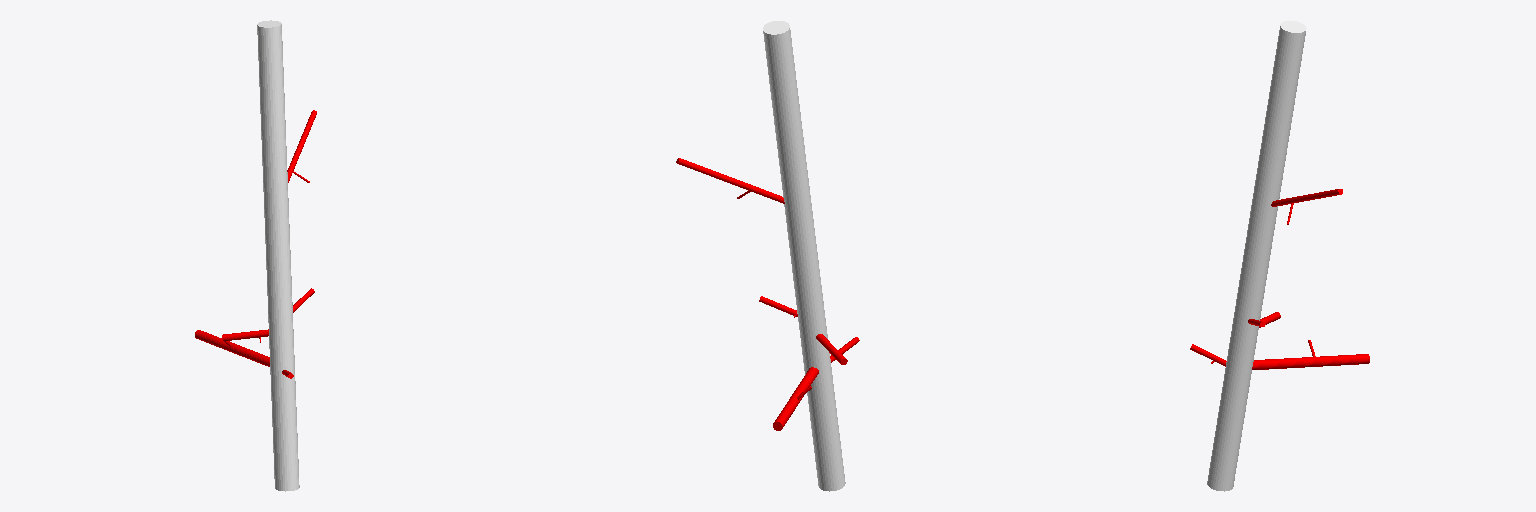
robot.urdf — tree_59.urdf:
<?xml version='1.0' encoding='UTF-8'?>
<robot name="tree_59.urdf">
  <link name="branch_0">
    <inertial>
      <origin xyz="0.0 0.0 0.0" rpy="0.0 -0.0 0.0"/>
      <mass value="0.1"/>
      <inertia ixx="0.001" ixy="0.0" ixz="0.0" iyy="0.001" iyz="0.0" izz="0.001"/>
    </inertial>
    <visual name="branch_0_visual">
      <geometry>
        <cylinder radius="0.17483769597499965" length="6.845135043464648"/>
      </geometry>
      <material name="branch_material"/>
      <origin xyz="0.13283026947058 0.48062829997730977 3.3860479910347157" rpy="-6.938893903907228e-18 0.14621384736707307 1.3011587667619262"/>
    </visual>
    <collision name="branch_0_collision">
      <geometry>
        <cylinder radius="0.17483769597499965" length="6.845135043464648"/>
      </geometry>
      <origin xyz="0.13283026947058 0.48062829997730977 3.3860479910347157" rpy="-6.938893903907228e-18 0.14621384736707307 1.3011587667619262"/>
    </collision>
  </link>
  <link name="branch_1">
    <inertial>
      <origin xyz="0.0 0.0 0.0" rpy="0.0 -0.0 0.0"/>
      <mass value="0.1"/>
      <inertia ixx="0.001" ixy="0.0" ixz="0.0" iyy="0.001" iyz="0.0" izz="0.001"/>
    </inertial>
    <visual name="branch_1_visual">
      <geometry>
        <cylinder radius="0.06699041115230783" length="1.7483322700115995"/>
      </geometry>
      <material name="semantic_material"/>
      <origin xyz="0.0 0.0 0.0" rpy="0.0 -0.0 0.0"/>
    </visual>
    <collision name="branch_1_collision">
      <geometry>
        <cylinder radius="0.06699041115230783" length="1.7483322700115995"/>
      </geometry>
      <origin xyz="0.0 0.0 0.0" rpy="0.0 -0.0 0.0"/>
    </collision>
  </link>
  <link name="branch_2">
    <inertial>
      <origin xyz="0.0 0.0 0.0" rpy="0.0 -0.0 0.0"/>
      <mass value="0.1"/>
      <inertia ixx="0.001" ixy="0.0" ixz="0.0" iyy="0.001" iyz="0.0" izz="0.001"/>
    </inertial>
    <visual name="branch_2_visual">
      <geometry>
        <cylinder radius="0.01938063499564501" length="0.3086776239222891"/>
      </geometry>
      <material name="semantic_material"/>
      <origin xyz="0.0 0.0 0.0" rpy="0.0 -0.0 0.0"/>
    </visual>
    <collision name="branch_2_collision">
      <geometry>
        <cylinder radius="0.01938063499564501" length="0.3086776239222891"/>
      </geometry>
      <origin xyz="0.0 0.0 0.0" rpy="0.0 -0.0 0.0"/>
    </collision>
  </link>
  <link name="branch_3">
    <inertial>
      <origin xyz="0.0 0.0 0.0" rpy="0.0 -0.0 0.0"/>
      <mass value="0.1"/>
      <inertia ixx="0.001" ixy="0.0" ixz="0.0" iyy="0.001" iyz="0.0" izz="0.001"/>
    </inertial>
    <visual name="branch_3_visual">
      <geometry>
        <cylinder radius="0.03895299223296394" length="0.7196661500106503"/>
      </geometry>
      <material name="semantic_material"/>
      <origin xyz="0.0 0.0 0.0" rpy="0.0 -0.0 0.0"/>
    </visual>
    <collision name="branch_3_collision">
      <geometry>
        <cylinder radius="0.03895299223296394" length="0.7196661500106503"/>
      </geometry>
      <origin xyz="0.0 0.0 0.0" rpy="0.0 -0.0 0.0"/>
    </collision>
  </link>
  <link name="branch_4">
    <inertial>
      <origin xyz="0.0 0.0 0.0" rpy="0.0 -0.0 0.0"/>
      <mass value="0.1"/>
      <inertia ixx="0.001" ixy="0.0" ixz="0.0" iyy="0.001" iyz="0.0" izz="0.001"/>
    </inertial>
    <visual name="branch_4_visual">
      <geometry>
        <cylinder radius="0.01" length="0.07999111156025722"/>
      </geometry>
      <material name="semantic_material"/>
      <origin xyz="0.0 0.0 0.0" rpy="0.0 -0.0 0.0"/>
    </visual>
    <collision name="branch_4_collision">
      <geometry>
        <cylinder radius="0.01" length="0.07999111156025722"/>
      </geometry>
      <origin xyz="0.0 0.0 0.0" rpy="0.0 -0.0 0.0"/>
    </collision>
  </link>
  <link name="branch_5">
    <inertial>
      <origin xyz="0.0 0.0 0.0" rpy="0.0 -0.0 0.0"/>
      <mass value="0.1"/>
      <inertia ixx="0.001" ixy="0.0" ixz="0.0" iyy="0.001" iyz="0.0" izz="0.001"/>
    </inertial>
    <visual name="branch_5_visual">
      <geometry>
        <cylinder radius="0.039121098867955756" length="0.6996559909180442"/>
      </geometry>
      <material name="semantic_material"/>
      <origin xyz="0.0 0.0 0.0" rpy="0.0 -0.0 0.0"/>
    </visual>
    <collision name="branch_5_collision">
      <geometry>
        <cylinder radius="0.039121098867955756" length="0.6996559909180442"/>
      </geometry>
      <origin xyz="0.0 0.0 0.0" rpy="0.0 -0.0 0.0"/>
    </collision>
  </link>
  <link name="branch_6">
    <inertial>
      <origin xyz="0.0 0.0 0.0" rpy="0.0 -0.0 0.0"/>
      <mass value="0.1"/>
      <inertia ixx="0.001" ixy="0.0" ixz="0.0" iyy="0.001" iyz="0.0" izz="0.001"/>
    </inertial>
    <visual name="branch_6_visual">
      <geometry>
        <cylinder radius="0.012666042768010533" length="0.09677016302122704"/>
      </geometry>
      <material name="semantic_material"/>
      <origin xyz="0.0 0.0 0.0" rpy="0.0 -0.0 0.0"/>
    </visual>
    <collision name="branch_6_collision">
      <geometry>
        <cylinder radius="0.012666042768010533" length="0.09677016302122704"/>
      </geometry>
      <origin xyz="0.0 0.0 0.0" rpy="0.0 -0.0 0.0"/>
    </collision>
  </link>
  <link name="branch_7">
    <inertial>
      <origin xyz="0.0 0.0 0.0" rpy="0.0 -0.0 0.0"/>
      <mass value="0.1"/>
      <inertia ixx="0.001" ixy="0.0" ixz="0.0" iyy="0.001" iyz="0.0" izz="0.001"/>
    </inertial>
    <visual name="branch_7_visual">
      <geometry>
        <cylinder radius="0.049292176472679576" length="0.8322579076883592"/>
      </geometry>
      <material name="semantic_material"/>
      <origin xyz="0.0 0.0 0.0" rpy="0.0 -0.0 0.0"/>
    </visual>
    <collision name="branch_7_collision">
      <geometry>
        <cylinder radius="0.049292176472679576" length="0.8322579076883592"/>
      </geometry>
      <origin xyz="0.0 0.0 0.0" rpy="0.0 -0.0 0.0"/>
    </collision>
  </link>
  <link name="branch_8">
    <inertial>
      <origin xyz="0.0 0.0 0.0" rpy="0.0 -0.0 0.0"/>
      <mass value="0.1"/>
      <inertia ixx="0.001" ixy="0.0" ixz="0.0" iyy="0.001" iyz="0.0" izz="0.001"/>
    </inertial>
    <visual name="branch_8_visual">
      <geometry>
        <cylinder radius="0.011565450349080658" length="0.1394236431867614"/>
      </geometry>
      <material name="semantic_material"/>
      <origin xyz="0.0 0.0 0.0" rpy="0.0 -0.0 0.0"/>
    </visual>
    <collision name="branch_8_collision">
      <geometry>
        <cylinder radius="0.011565450349080658" length="0.1394236431867614"/>
      </geometry>
      <origin xyz="0.0 0.0 0.0" rpy="0.0 -0.0 0.0"/>
    </collision>
  </link>
  <link name="branch_9">
    <inertial>
      <origin xyz="0.0 0.0 0.0" rpy="0.0 -0.0 0.0"/>
      <mass value="0.1"/>
      <inertia ixx="0.001" ixy="0.0" ixz="0.0" iyy="0.001" iyz="0.0" izz="0.001"/>
    </inertial>
    <visual name="branch_9_visual">
      <geometry>
        <cylinder radius="0.040861218790571245" length="1.7373313124930687"/>
      </geometry>
      <material name="semantic_material"/>
      <origin xyz="0.0 0.0 0.0" rpy="0.0 -0.0 0.0"/>
    </visual>
    <collision name="branch_9_collision">
      <geometry>
        <cylinder radius="0.040861218790571245" length="1.7373313124930687"/>
      </geometry>
      <origin xyz="0.0 0.0 0.0" rpy="0.0 -0.0 0.0"/>
    </collision>
  </link>
  <link name="branch_10">
    <inertial>
      <origin xyz="0.0 0.0 0.0" rpy="0.0 -0.0 0.0"/>
      <mass value="0.1"/>
      <inertia ixx="0.001" ixy="0.0" ixz="0.0" iyy="0.001" iyz="0.0" izz="0.001"/>
    </inertial>
    <visual name="branch_10_visual">
      <geometry>
        <cylinder radius="0.015294915321162731" length="0.352002311266226"/>
      </geometry>
      <material name="semantic_material"/>
      <origin xyz="0.0 0.0 0.0" rpy="0.0 -0.0 0.0"/>
    </visual>
    <collision name="branch_10_collision">
      <geometry>
        <cylinder radius="0.015294915321162731" length="0.352002311266226"/>
      </geometry>
      <origin xyz="0.0 0.0 0.0" rpy="0.0 -0.0 0.0"/>
    </collision>
  </link>
  <joint name="joint_0_1" type="fixed">
    <parent link="branch_0"/>
    <child link="branch_1"/>
    <axis xyz="1. 0. 0."/>
    <origin xyz="-0.12822355548615294 1.1005729452434996 1.720436290816358" rpy="2.153925401109629 1.4872036745767587 -2.3321736571797413"/>
  </joint>
  <joint name="joint_0_3" type="fixed">
    <parent link="branch_0"/>
    <child link="branch_3"/>
    <axis xyz="1. 0. 0."/>
    <origin xyz="0.4174300751111684 0.452354742098684 2.5550254973716" rpy="-0.35781529107531457 1.2060541356721188 -0.06051568609880346"/>
  </joint>
  <joint name="joint_0_5" type="fixed">
    <parent link="branch_0"/>
    <child link="branch_5"/>
    <axis xyz="1. 0. 0."/>
    <origin xyz="-0.04554988467439796 -0.06875812216427653 1.8187571663923818" rpy="0.032885988813767864 1.2344144009468903 -1.8831571797677993"/>
  </joint>
  <joint name="joint_0_7" type="fixed">
    <parent link="branch_0"/>
    <child link="branch_7"/>
    <axis xyz="1. 0. 0."/>
    <origin xyz="-0.2629009176737517 0.5383769138522845 2.2282477556702247" rpy="2.327488728570028 1.377732060592368 -1.369769132083162"/>
  </joint>
  <joint name="joint_0_9" type="fixed">
    <parent link="branch_0"/>
    <child link="branch_9"/>
    <axis xyz="1. 0. 0."/>
    <origin xyz="0.7618292751901468 1.0856216588098457 4.511264598343443" rpy="-0.199648748766704 1.1064267949914965 0.47173828623872993"/>
  </joint>
  <joint name="joint_1_2" type="fixed">
    <parent link="branch_0"/>
    <child link="branch_2"/>
    <axis xyz="1. 0. 0."/>
    <origin xyz="-0.26558153879506347 1.2132249119522351 1.821450789851478" rpy="0.7907531816728135 0.061366962770074175 -1.2346300176135498"/>
  </joint>
  <joint name="joint_3_4" type="fixed">
    <parent link="branch_0"/>
    <child link="branch_4"/>
    <axis xyz="1. 0. 0."/>
    <origin xyz="0.2866995694698252 0.449717250481116 2.4998898935605225" rpy="1.8402076955796998 0.33246502778485554 -2.7892638359901847"/>
  </joint>
  <joint name="joint_5_6" type="fixed">
    <parent link="branch_0"/>
    <child link="branch_6"/>
    <axis xyz="1. 0. 0."/>
    <origin xyz="-0.02218293154018321 -0.08221102723134788 1.7852758662018027" rpy="2.2627600301473496 0.6977193055976095 0.8223425192384872"/>
  </joint>
  <joint name="joint_7_8" type="fixed">
    <parent link="branch_0"/>
    <child link="branch_8"/>
    <axis xyz="1. 0. 0."/>
    <origin xyz="-0.1904670763363556 0.4309305295110088 2.199636739131527" rpy="2.2524265310010207 -0.12593228672055654 -0.5539880833438916"/>
  </joint>
  <joint name="joint_9_10" type="fixed">
    <parent link="branch_0"/>
    <child link="branch_10"/>
    <axis xyz="1. 0. 0."/>
    <origin xyz="0.7421137805907995 0.9238408117022209 4.303813719483788" rpy="-2.403941089982781 0.5465398718832196 -2.356111202296631"/>
  </joint>
  <material name="branch_material">
    <color rgba="1. 1. 1. 1."/>
  </material>
  <material name="semantic_material">
    <color rgba="1. 0. 0. 1."/>
  </material>
</robot>

--- Render facts (derived) ---
The picture shows the robot from 3 angles, left to right: view 1: azimuth 30°, elevation 25°; view 2: azimuth 150°, elevation 25°; view 3: azimuth 270°, elevation 25°; orthographic projection.
Model tree_59.urdf with 11 links and 10 joints (10 fixed), rooted at branch_0, posed every joint at zero.
Visible links, largest first — view 1: branch_0, branch_1; view 2: branch_0, branch_9, branch_1; view 3: branch_0, branch_1.
Boxes of the visible links, x1,y1,x2,y2 form: branch_0: (257,20,299,491); branch_1: (195,330,269,366); branch_0: (763,21,845,491); branch_9: (676,158,784,203); branch_1: (773,367,818,430); branch_0: (1207,20,1306,491); branch_1: (1252,354,1369,369).
Size in the robot's own frame: 2.03 by 2.36 by 6.82 metres.
Geometry: primitives only (box / cylinder / sphere), no mesh files.